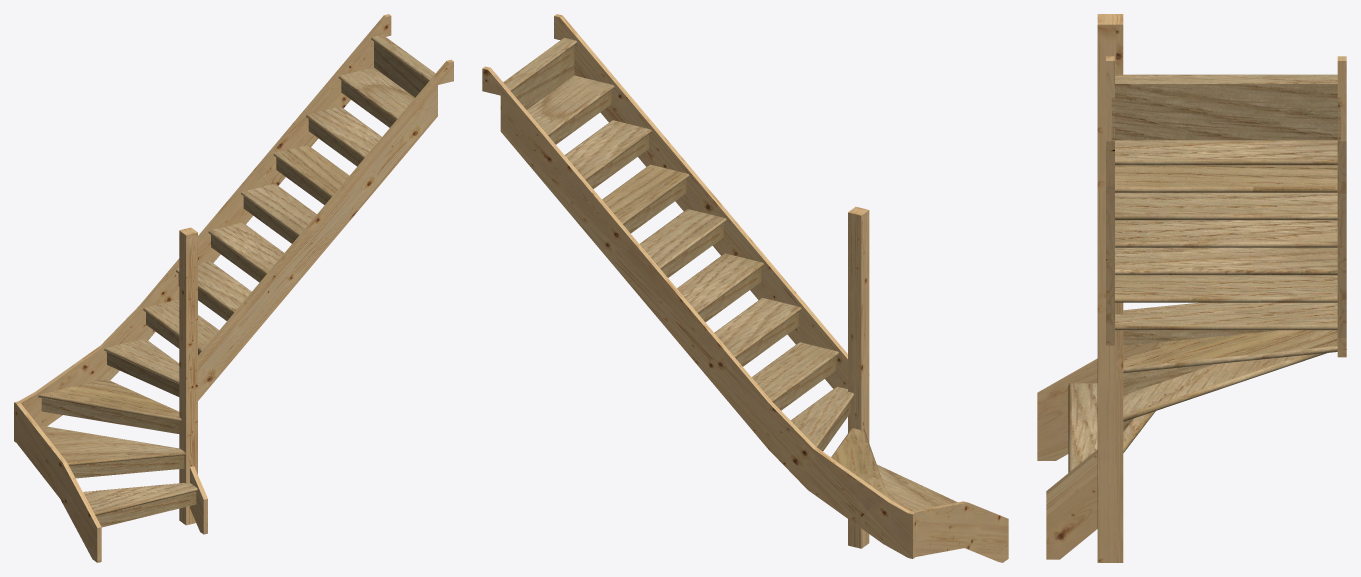
The model's file is Staircase_5.dae.
The picture shows the model from 3 angles, left to right: view 1: azimuth 30°, elevation 25°; view 2: azimuth 150°, elevation 25°; view 3: azimuth 270°, elevation 25°; orthographic projection. The views are drawn at different scales.
Parts seen in each view (by area): view 1: StairCon (×27); view 2: StairCon (×23); view 3: StairCon (×19).
Boxes of the visible parts, x1,y1,x2,y2 form: StairCon (×27): (14, 14, 453, 562); StairCon (×23): (482, 14, 1008, 562); StairCon (×19): (1037, 14, 1346, 562).
Bounding box in the file's own units: 2.82 × 1.09 × 2.85.
5 materials, 5 textured.
